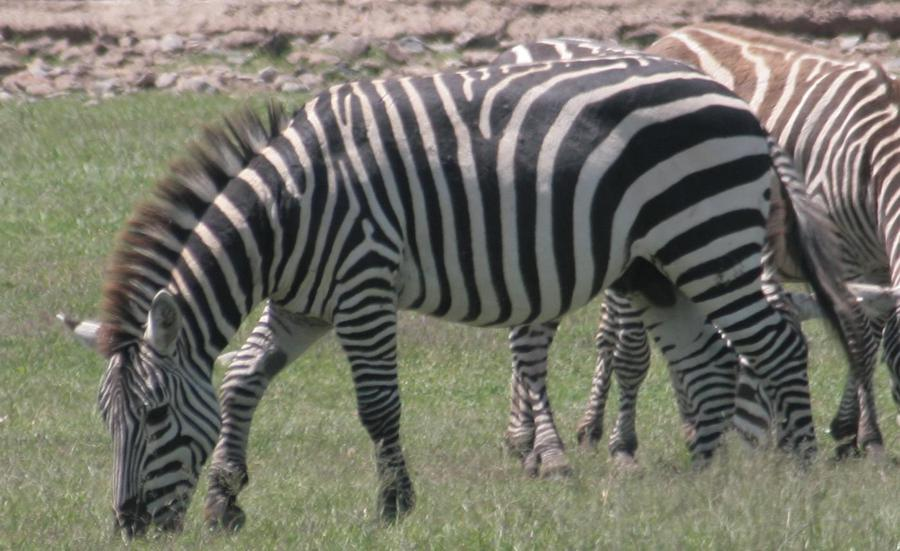zebra_plains: (249, 28, 799, 344)
